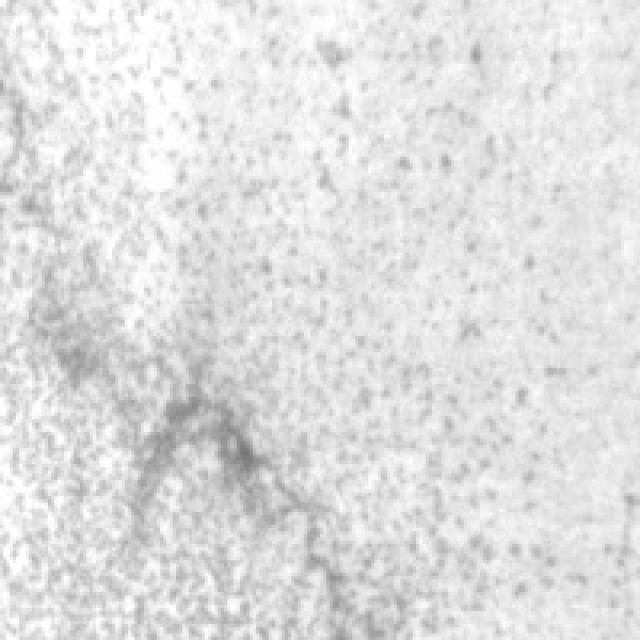pitted_surface: (0, 0, 624, 621)
